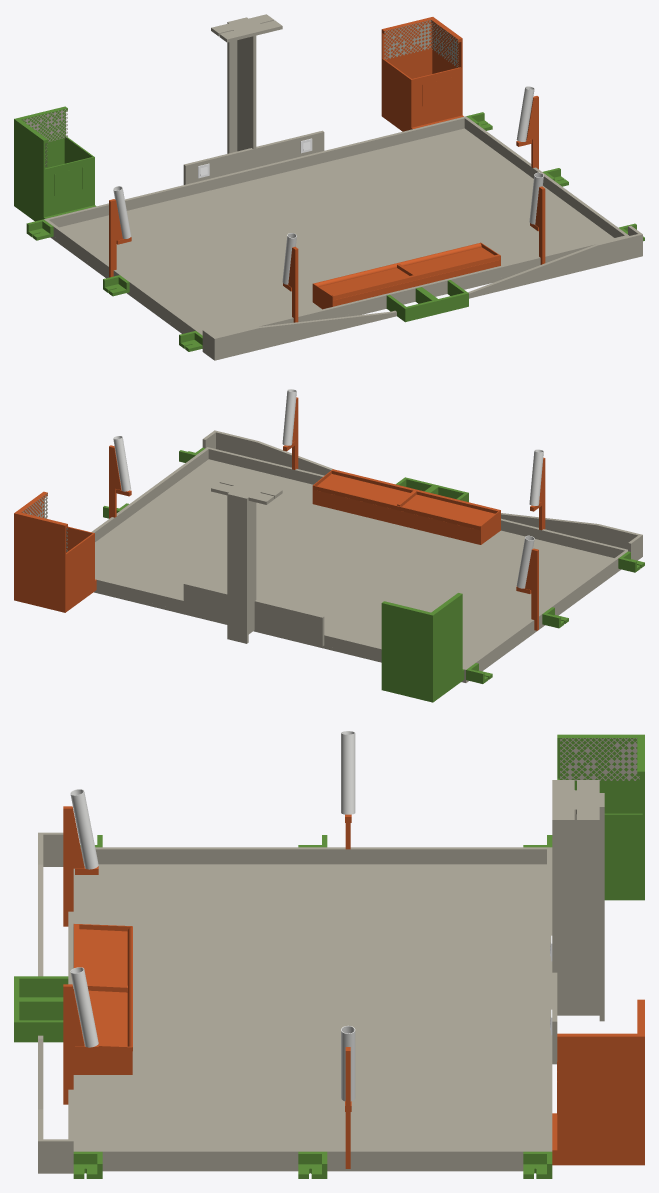
Rendered from robot-cities-2018-iges.fbx.
The picture shows the model from 3 angles, top to bottom: view 1: azimuth 30°, elevation 25°; view 2: azimuth 150°, elevation 25°; view 3: azimuth 270°, elevation 25°; orthographic projection. The views are drawn at different scales.
Visible parts, largest first — view 1: Vinyl, ChateauEauP2 v2(Mirror), ChateauEauP2 v10, bordures 70 mm (1), bordures 70 mm, EpurationEau v19, SupportBaliseCentral v14, RampeBallon v10, RampeBallon v2, SupportPlanInterupteur v9, SupportEau1 v7 (×4), Filet v4 (×3) (+3 smaller); view 2: Vinyl, ChateauEauP2 v10, EpurationEau v19, ChateauEauP2 v2(Mirror), SupportBaliseCentral v14, bordures 70 mm, bordures 70 mm (1), SupportPlanInterupteur v9, SupportEau3 v3 (×4), RampeBallon v10, RampeBallon v2, SupportEau1 v7 (×2) (+1 smaller); view 3: Vinyl, SupportBaliseCentral v14, ChateauEauP2 v2(Mirror), bordures 70 mm, bordures 70 mm (1), ChateauEauP2 v10, EpurationEau v19, SupportEau3 v3 (×4), SupportEau1 v7 (×3), SupportBallon v6 (×2), SupportBalise v5 (×3), sol (1) (+4 smaller).
Boxes of the visible parts, box(x1,y1,x2,y2) form: Vinyl: box(59, 128, 613, 335); ChateauEauP2 v2(Mirror): box(381, 17, 463, 131); ChateauEauP2 v10: box(14, 106, 96, 221); bordures 70 mm (1): box(255, 116, 628, 294); bordures 70 mm: box(44, 168, 417, 336); EpurationEau v19: box(312, 242, 500, 309); SupportBaliseCentral v14: box(211, 14, 282, 153); RampeBallon v10: box(216, 310, 396, 359); RampeBallon v2: box(468, 234, 639, 298); SupportPlanInterupteur v9: box(183, 130, 324, 184); SupportEau1 v7 (×4): box(109, 96, 545, 322); Filet v4 (×3): box(22, 20, 458, 141); Vinyl: box(95, 459, 614, 667); ChateauEauP2 v10: box(381, 593, 464, 702); EpurationEau v19: box(312, 469, 500, 544); ChateauEauP2 v2(Mirror): box(14, 491, 96, 612); SupportBaliseCentral v14: box(211, 476, 282, 643); bordures 70 mm: box(324, 518, 627, 679); bordures 70 mm (1): box(91, 447, 324, 610); SupportPlanInterupteur v9: box(183, 582, 324, 646); SupportEau3 v3 (×4): box(113, 389, 543, 588); RampeBallon v10: box(501, 513, 639, 549); RampeBallon v2: box(216, 431, 333, 475); SupportEau1 v7 (×2): box(109, 445, 538, 630); Vinyl: box(73, 864, 546, 1149); SupportBaliseCentral v14: box(552, 780, 604, 1021); ChateauEauP2 v2(Mirror): box(552, 999, 644, 1165); bordures 70 mm: box(68, 847, 552, 999); bordures 70 mm (1): box(68, 999, 552, 1166); ChateauEauP2 v10: box(557, 734, 644, 900); EpurationEau v19: box(73, 924, 132, 1074); SupportEau3 v3 (×4): box(70, 731, 355, 1101); SupportEau1 v7 (×3): box(63, 806, 350, 1168); SupportBallon v6 (×2): box(14, 976, 68, 1042); SupportBalise v5 (×3): box(73, 1151, 552, 1178); sol (1): box(102, 1166, 523, 1171).
Bounding box in the file's own units: 3.29 × 1.02 × 2.67.
